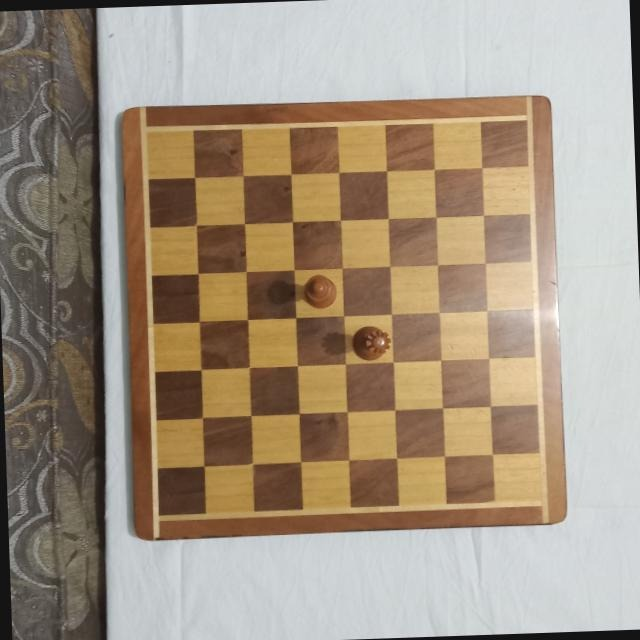white-king: (303, 274, 337, 310)
white-queen: (349, 325, 391, 361)
